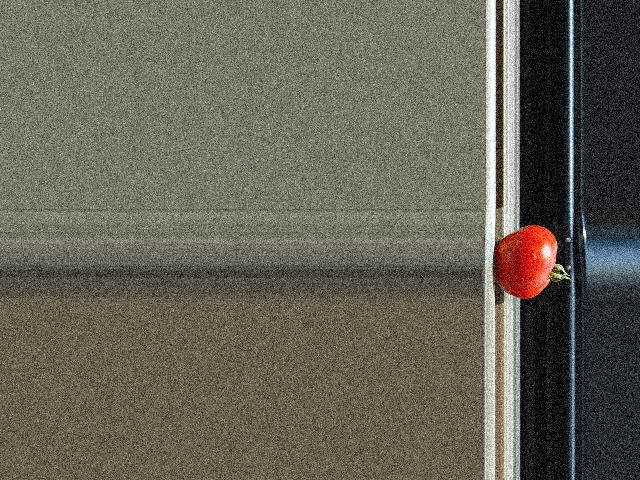tomato: (495, 225, 570, 298)
